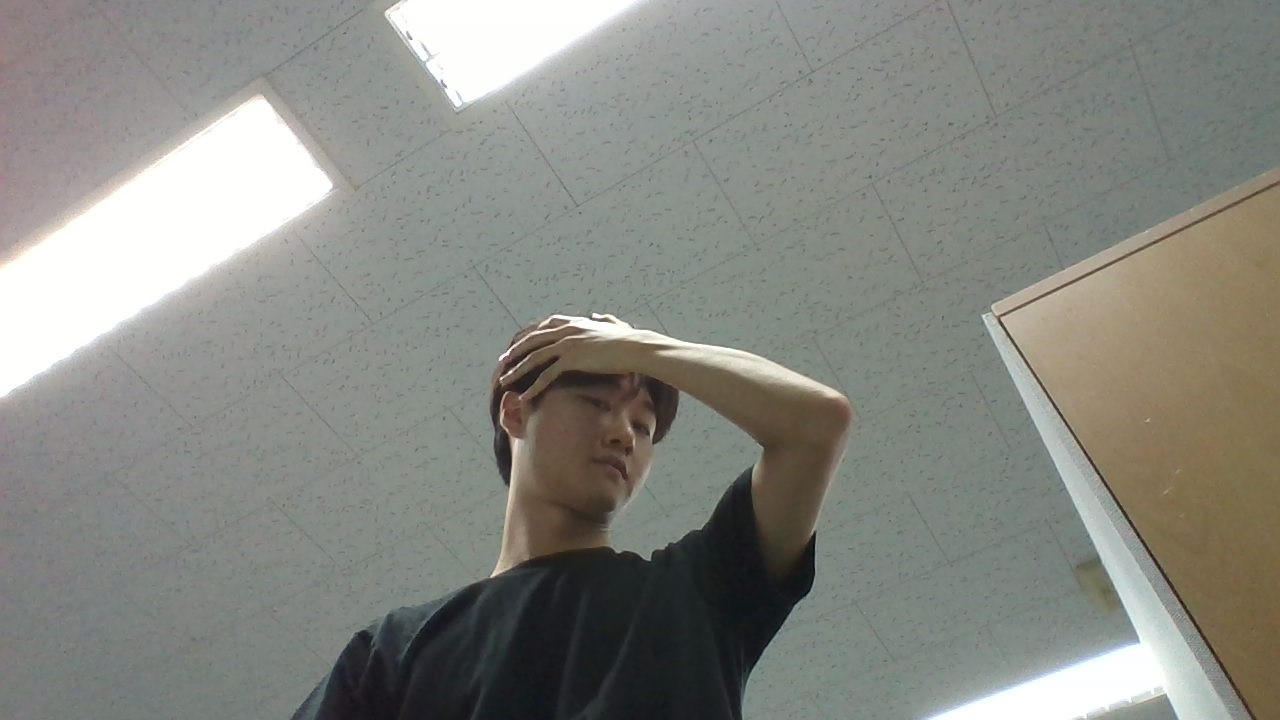Non-Helmet: (465, 295, 711, 544)
